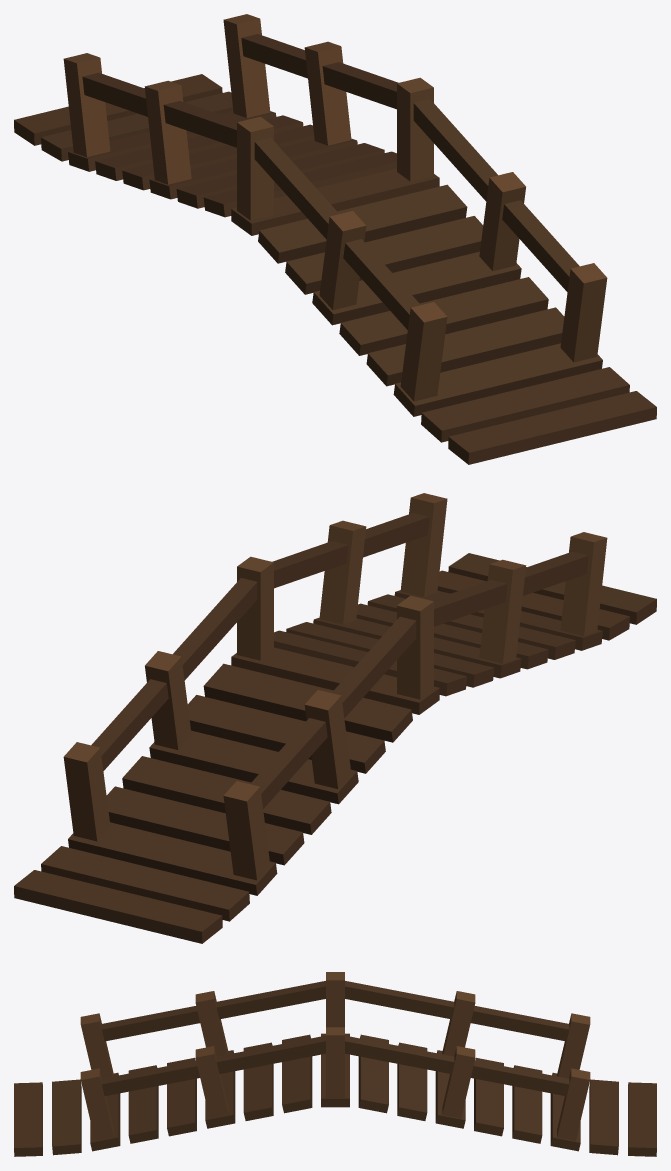
File: Bridge_1_Dark_Brown.fbx
The picture shows the model from 3 angles, top to bottom: view 1: azimuth 30°, elevation 25°; view 2: azimuth 150°, elevation 25°; view 3: azimuth 270°, elevation 25°; orthographic projection. The views are drawn at different scales.
Parts seen in each view (by area): view 1: Bridge_1_Dark_Brown_Part_1, Bridge_1_Dark_Brown_Part_3, Bridge_1_Dark_Brown_Part_4, Bridge_1_Dark_Brown_Part_2; view 2: Bridge_1_Dark_Brown_Part_2, Bridge_1_Dark_Brown_Part_3, Bridge_1_Dark_Brown_Part_4, Bridge_1_Dark_Brown_Part_1; view 3: Bridge_1_Dark_Brown_Part_4, Bridge_1_Dark_Brown_Part_3, Bridge_1_Dark_Brown_Part_2, Bridge_1_Dark_Brown_Part_1.
Part boxes in pixels (x1,y1,x2,y2): Bridge_1_Dark_Brown_Part_1: [241, 174, 656, 464]; Bridge_1_Dark_Brown_Part_3: [63, 53, 447, 401]; Bridge_1_Dark_Brown_Part_4: [223, 14, 607, 362]; Bridge_1_Dark_Brown_Part_2: [14, 74, 403, 227]; Bridge_1_Dark_Brown_Part_2: [14, 653, 429, 943]; Bridge_1_Dark_Brown_Part_3: [223, 532, 607, 880]; Bridge_1_Dark_Brown_Part_4: [63, 493, 447, 841]; Bridge_1_Dark_Brown_Part_1: [267, 553, 656, 706]; Bridge_1_Dark_Brown_Part_4: [80, 1027, 590, 1140]; Bridge_1_Dark_Brown_Part_3: [80, 972, 590, 1078]; Bridge_1_Dark_Brown_Part_2: [335, 1033, 656, 1156]; Bridge_1_Dark_Brown_Part_1: [14, 1033, 335, 1156].
Bounding box in the file's own units: 400 × 347 × 1676.
